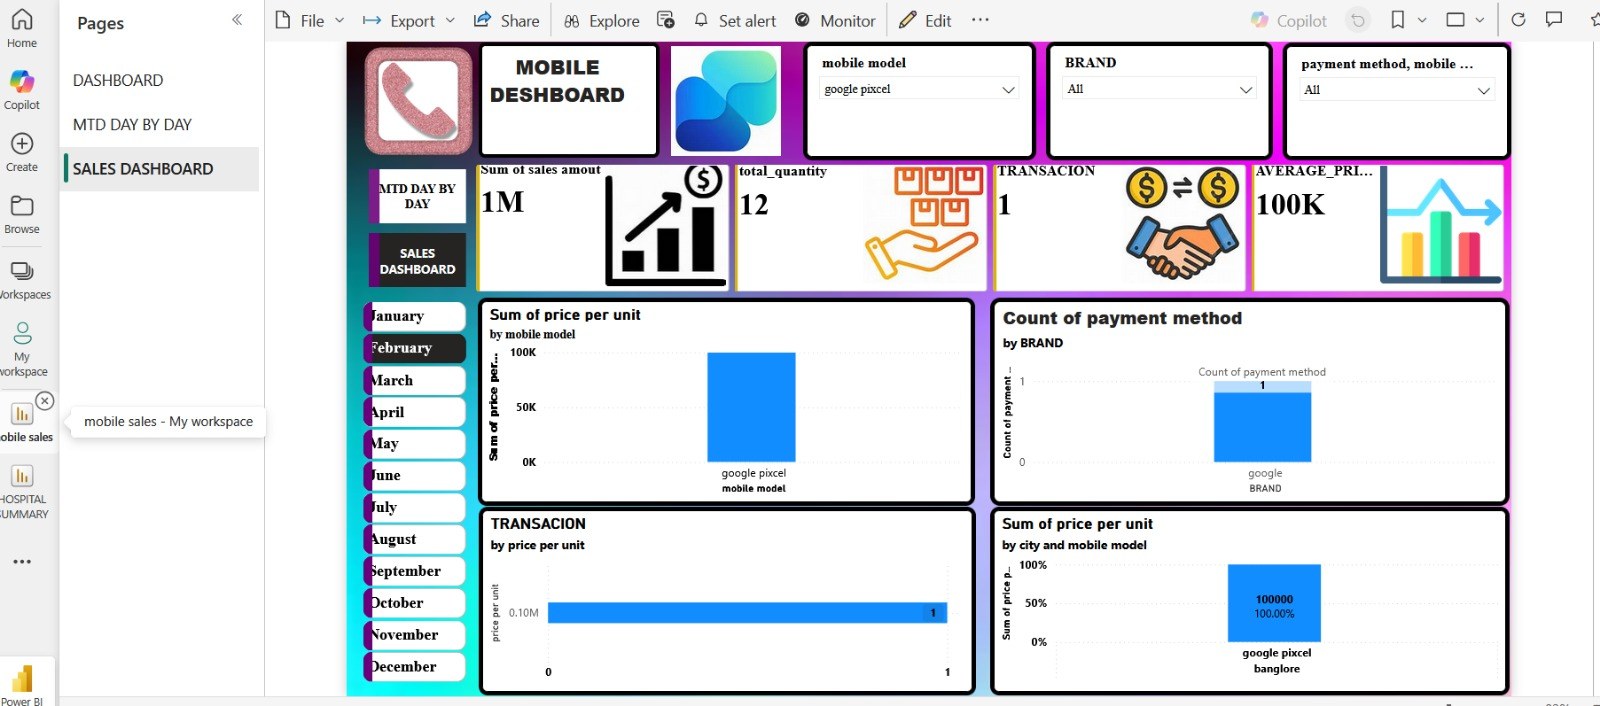

This screenshot's page, from the dashboard's own definition file:
{"tool":"powerbi","page":{"name":"SALES DASHBOARD","canvas":[1280,720],"ordinal":2},"visuals":[{"type":"shape","box":[28.2,11,99.4,108],"z":0},{"type":"image","box":[0,1.2,158.3,128.8],"z":1000},{"type":"cardVisual","fields":{"Data":["Sum(mobile-sales-data.sales amout)","mobile-sales-data.total_quantity","mobile-sales-data.TRANSACION","mobile-sales-data.AVERAGE_PRIGE"]},"box":[137.4,130.1,1142.3,150.9],"z":2000},{"type":"slicer","fields":{"Values":["mobile-sales-data.mobile model"]},"box":[501.2,0,255.8,130.2],"z":3000},{"type":"slicer","fields":{"Values":["mobile-sales-data.BRAND"]},"box":[768.6,0,250,130.2],"z":4000},{"type":"slicer","fields":{"Values":["mobile-sales-data.payment method","mobile-sales-data.mobile model"]},"box":[1029.1,1.2,251.2,129.1],"z":5000},{"type":"image","box":[308.1,0,217.4,130.2],"z":6000},{"type":"textbox","box":[145.3,1.2,198.8,126.7],"z":7000},{"type":"clusteredColumnChart","fields":{"Category":["mobile-sales-data.mobile model"],"Y":["Sum(mobile-sales-data.price per unit)"]},"box":[143.6,281,547.2,229.4],"z":8000},{"type":"lineStackedColumnComboChart","fields":{"Category":["mobile-sales-data.BRAND"],"Y":["CountNonNull(mobile-sales-data.payment method)"]},"box":[708,281,570.6,229.4],"z":9000},{"type":"barChart","fields":{"Category":["mobile-sales-data.price per unit"],"Y":["mobile-sales-data.TRANSACION"]},"box":[145,511,547,208],"z":10000},{"type":"hundredPercentStackedColumnChart","fields":{"Category":["mobile-sales-data.city","mobile-sales-data.mobile model"],"Y":["Sum(mobile-sales-data.price per unit)"]},"box":[708,511,571,208],"z":11000},{"type":"advancedSlicerVisual","fields":{"Values":["custom-calender.date.Variation.Date Hierarchy.Month"]},"box":[13.5,281,123.9,439.3],"z":12000},{"type":"pageNavigator","box":[24.5,139.9,108,131.3],"z":13000}]}

Visuals, with their boxes on the page's 1280x720 design canvas (x1, y1, x2, y2). These are canvas units, not pixel positions in the 1600x706 screenshot, which may show the page scaled, cropped or inside an application window:
shape: left=28, top=11, right=128, bottom=119
image: left=0, top=1, right=158, bottom=130
cardVisual - Sum(mobile-sales-data.sales amout) x mobile-sales-data.total_quantity: left=137, top=130, right=1280, bottom=281
slicer - mobile-sales-data.mobile model: left=501, top=0, right=757, bottom=130
slicer - mobile-sales-data.BRAND: left=769, top=0, right=1019, bottom=130
slicer - mobile-sales-data.payment method x mobile-sales-data.mobile model: left=1029, top=1, right=1280, bottom=130
image: left=308, top=0, right=526, bottom=130
textbox: left=145, top=1, right=344, bottom=128
clusteredColumnChart - mobile-sales-data.mobile model x Sum(mobile-sales-data.price per unit): left=144, top=281, right=691, bottom=510
lineStackedColumnComboChart - mobile-sales-data.BRAND x CountNonNull(mobile-sales-data.payment method): left=708, top=281, right=1279, bottom=510
barChart - mobile-sales-data.price per unit x mobile-sales-data.TRANSACION: left=145, top=511, right=692, bottom=719
hundredPercentStackedColumnChart - mobile-sales-data.city x mobile-sales-data.mobile model: left=708, top=511, right=1279, bottom=719
advancedSlicerVisual - custom-calender.date.Variation.Date Hierarchy.Month: left=14, top=281, right=137, bottom=720
pageNavigator: left=24, top=140, right=132, bottom=271
